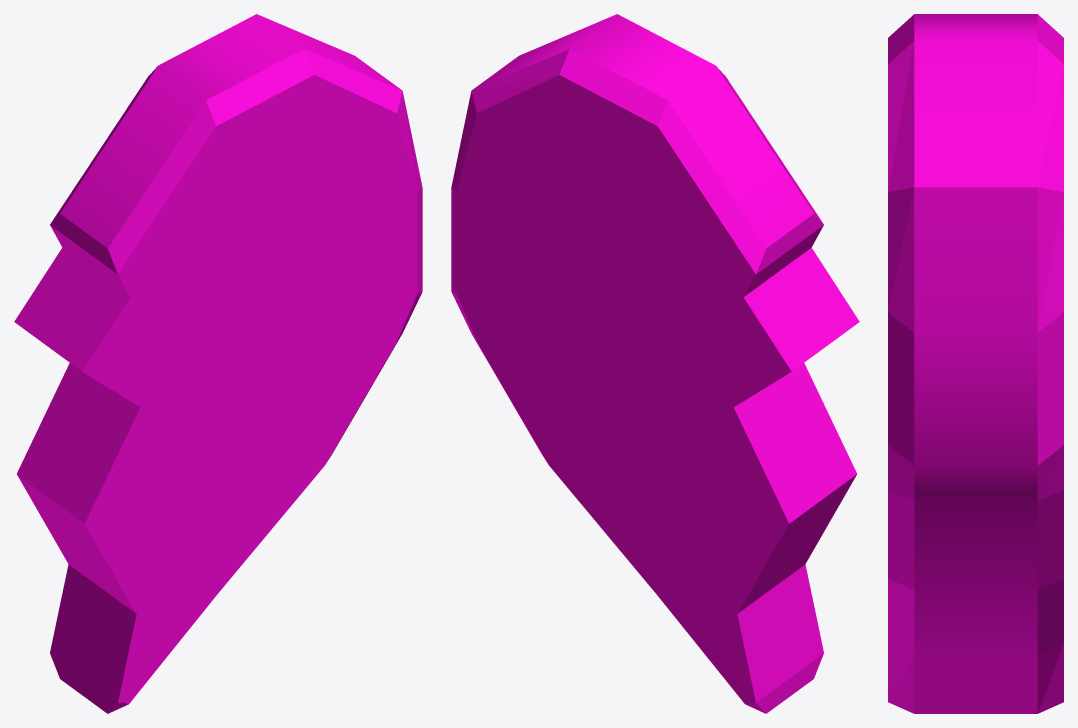
File: PinkHeartRight.FBX
The picture shows the model from 3 angles, left to right: view 1: azimuth 30°, elevation 25°; view 2: azimuth 150°, elevation 25°; view 3: azimuth 270°, elevation 25°; orthographic projection. The views are drawn at different scales.
Visible parts, largest first — view 1: HeartRightPink; view 2: HeartRightPink; view 3: HeartRightPink.
Part boxes in pixels (x1,y1,x2,y2): HeartRightPink: (14, 14, 422, 713); HeartRightPink: (451, 14, 859, 713); HeartRightPink: (888, 14, 1063, 713).
Size of the model in its own units: 0.1651 by 0.2776 by 0.0555.
